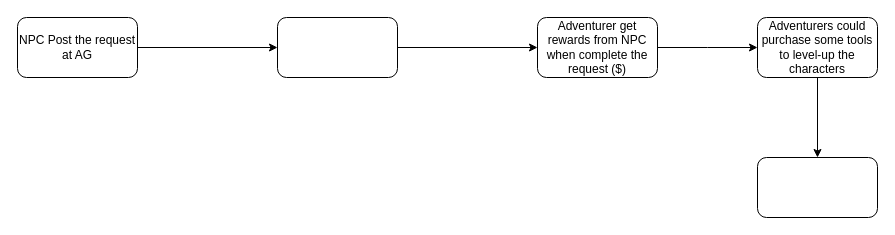
This 895x235 diagram has some shape labels left out. The box of each missing label's shape, as (x1, y1, x2, y2) in pixels:
Adventurer accepts requests from AG: (276, 16, 398, 78)
When get a set of tool, the ad will get some rewards: (756, 156, 878, 218)
